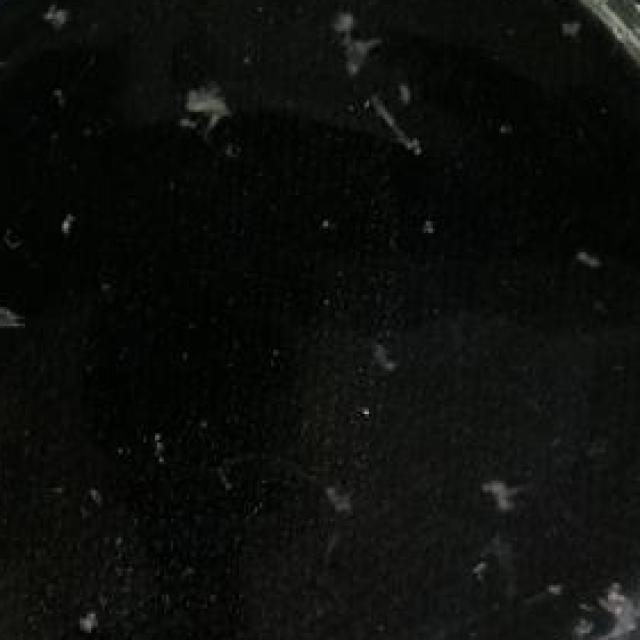Microplastic: (458, 454, 558, 540), (294, 459, 380, 538), (357, 83, 442, 162), (316, 0, 384, 90), (162, 62, 234, 143), (565, 221, 617, 293), (590, 574, 640, 630), (367, 321, 410, 383), (0, 288, 48, 338), (66, 602, 109, 640), (43, 0, 70, 52)
